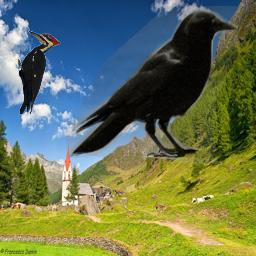Crow: (66, 6, 238, 164)
Woodpecker: (18, 30, 62, 114)
